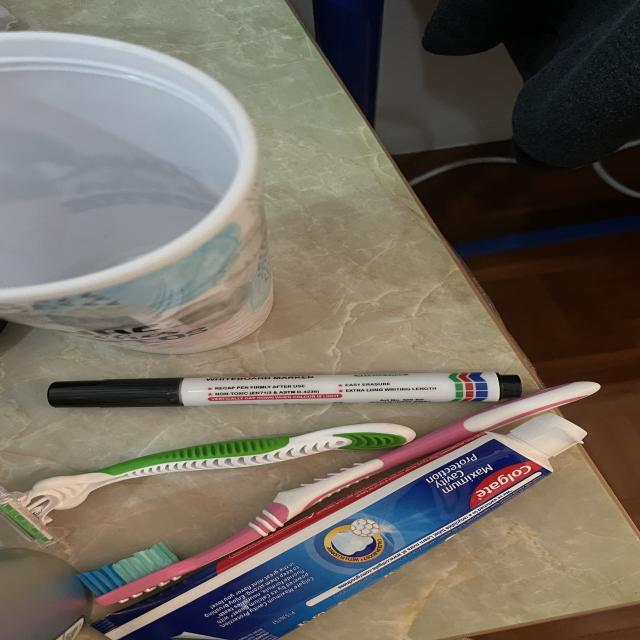marker: (47, 372, 522, 407)
